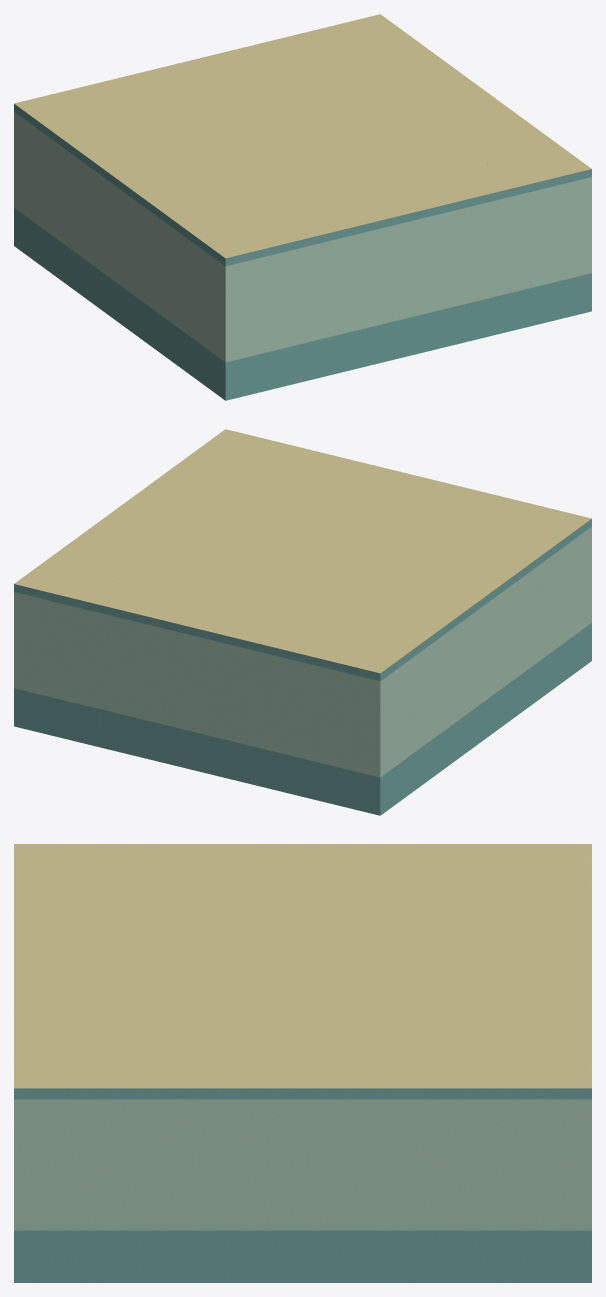
Rendered from Classroom.fbx.
3 renders of one model, top to bottom at view 1: azimuth 30°, elevation 25°; view 2: azimuth 150°, elevation 25°; view 3: azimuth 270°, elevation 25°, orthographic. The views are drawn at different scales.
Parts seen in each view (by area): view 1: ClassRoom001; view 2: ClassRoom001; view 3: ClassRoom001.
Part boxes in pixels (x1,y1,x2,y2): ClassRoom001: (14,14,591,400); ClassRoom001: (14,429,591,815); ClassRoom001: (14,844,591,1282).
Bounding box in the file's own units: 700 × 262 × 700.
